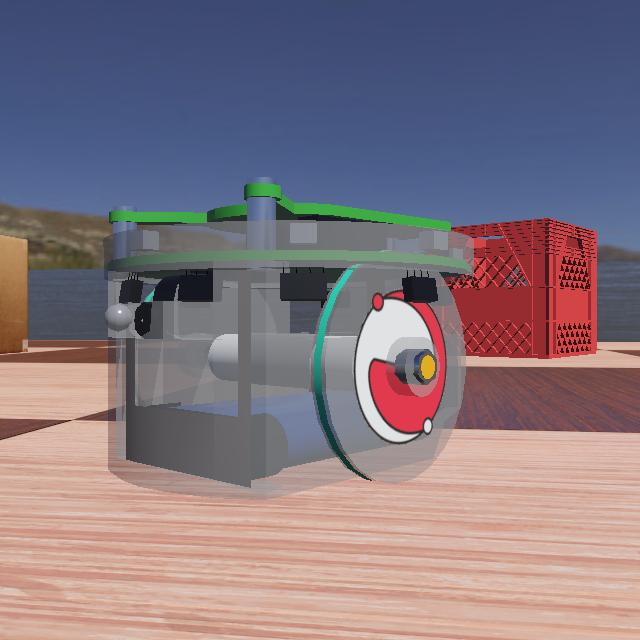plastic-crate: (413, 218, 637, 358)
